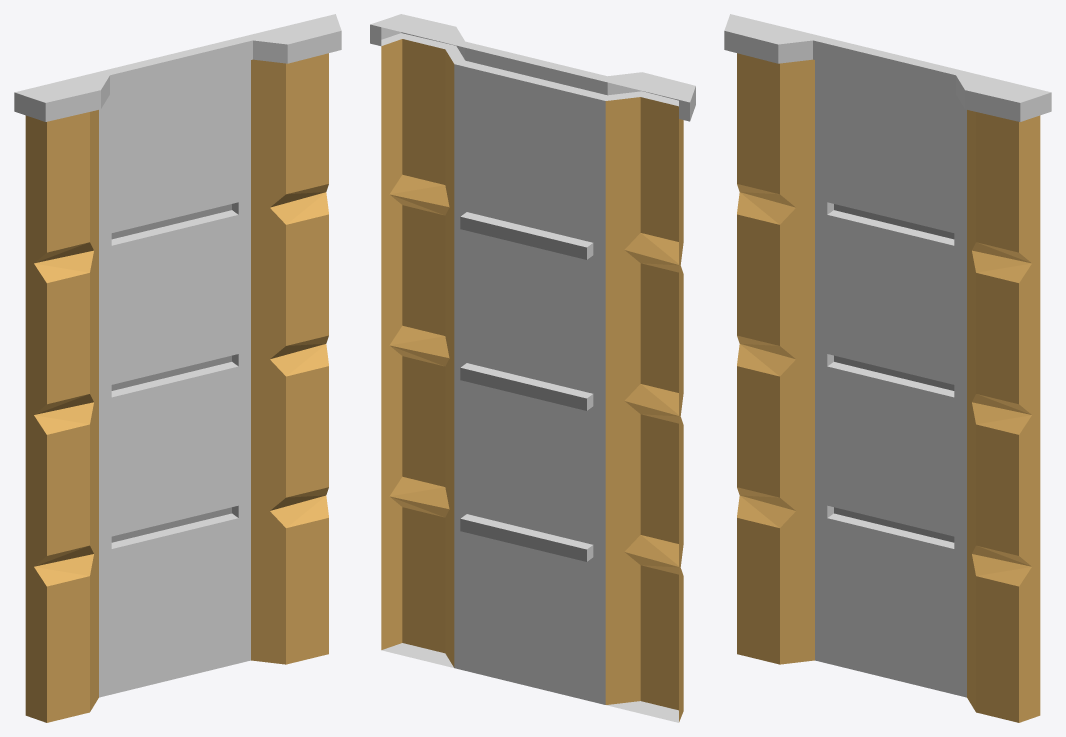
The model's file is SM_Wall_Lift.fbx.
3 renders of one model, left to right at view 1: azimuth 30°, elevation 25°; view 2: azimuth 150°, elevation 25°; view 3: azimuth 330°, elevation 25°, orthographic.
Parts seen in each view (by area): view 1: SM_Wall_Lift; view 2: SM_Wall_Lift; view 3: SM_Wall_Lift.
Part boxes in pixels (left/top/right/bottom): SM_Wall_Lift: left=14, top=14, right=341, bottom=722; SM_Wall_Lift: left=370, top=14, right=695, bottom=722; SM_Wall_Lift: left=724, top=14, right=1051, bottom=722.
Bounding box in the file's own units: 2.15 × 4 × 0.2988.
